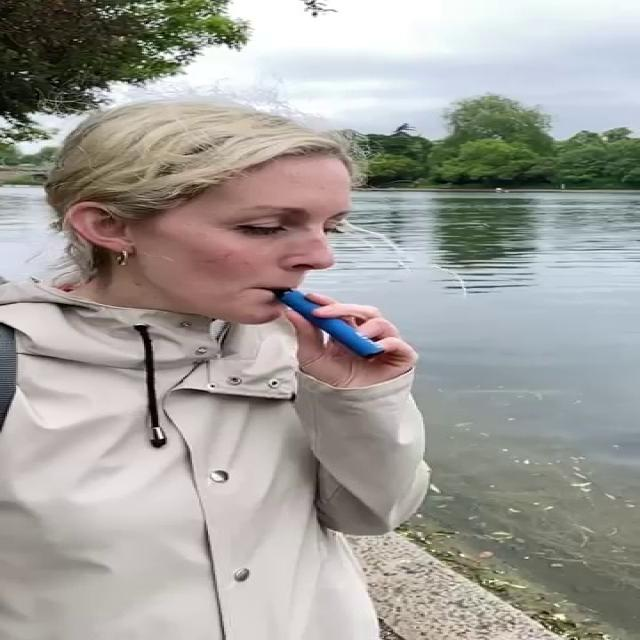Cigarette: (272, 289, 385, 359)
Hand: (286, 291, 419, 385)
Mouth: (236, 283, 299, 296)
